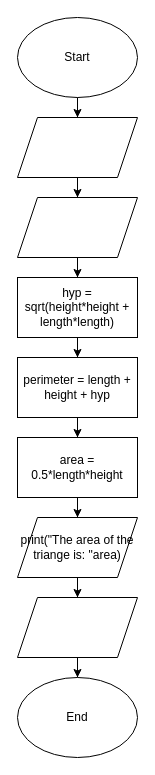
Image size: 155x775. Some labels were removed from this diagram. Each missing label, with the centre of its shape:
height = input("Enter height of the triangle"): (x=77, y=147)
length = input("Enter the length of the triangle"): (x=77, y=227)
print("The perimeter of the triangle is: "perimeter): (x=77, y=627)
